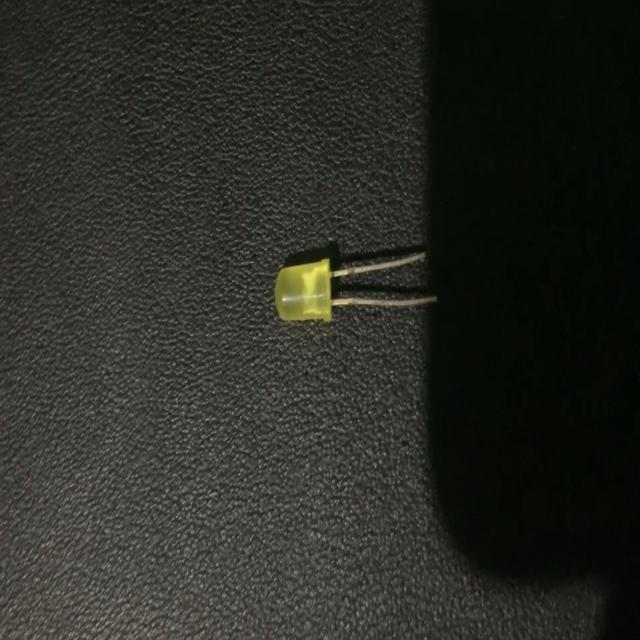LED: (276, 252, 438, 321)
